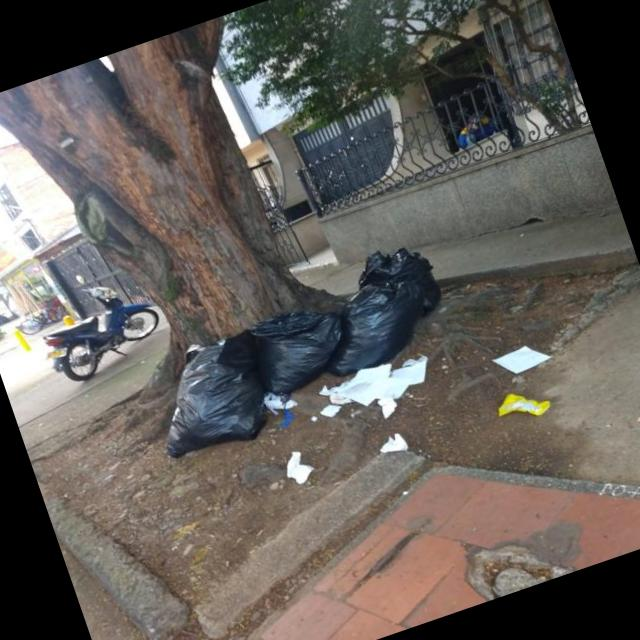high trash: (166, 248, 441, 457)
less trash: (494, 345, 551, 373), (497, 393, 550, 416), (286, 451, 314, 484), (380, 432, 409, 451)
